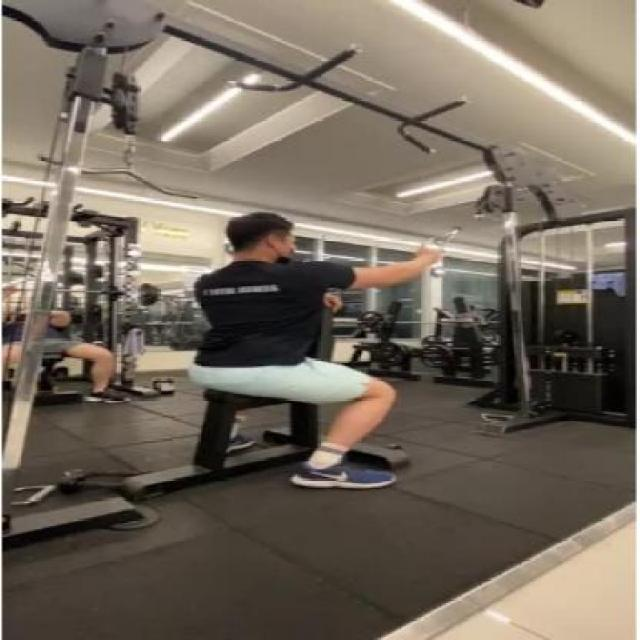Seated Cable Rows: (61, 95, 640, 639)
